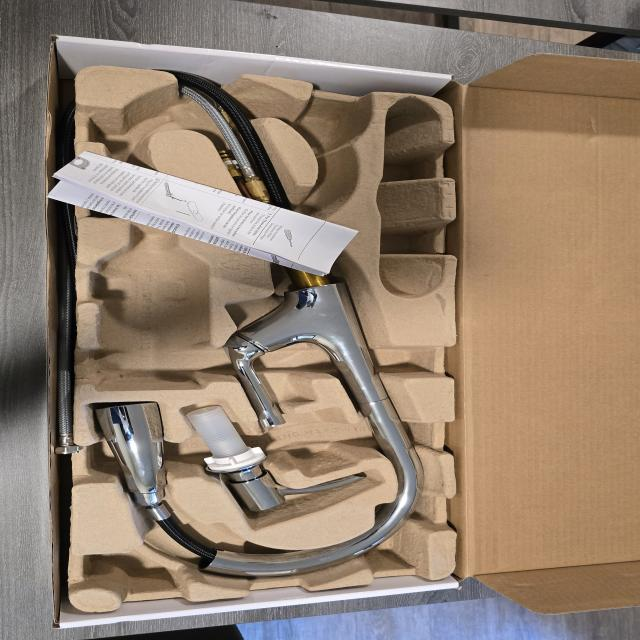1o: (95, 69, 424, 574)
2: (185, 404, 368, 513)
3m: (95, 219, 208, 391)
4m: (374, 97, 441, 298)
5m: (300, 102, 361, 152)
6m: (88, 96, 177, 155)
7m: (89, 174, 189, 220)
8: (45, 150, 361, 277)
